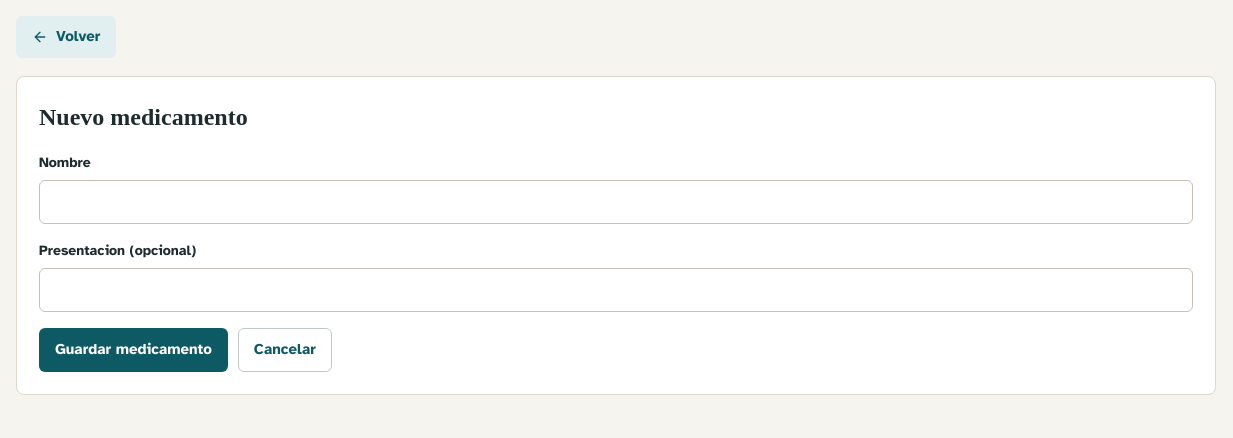
Test case: FormularioMedicamento › muestra el conflicto de nombre duplicado (409) sobre el campo nombre
The width and height of the screenshot is (1233, 438).
Type "Losartan" into the field labelled "Nombre" at (616, 202), box [39,180,1193,224]
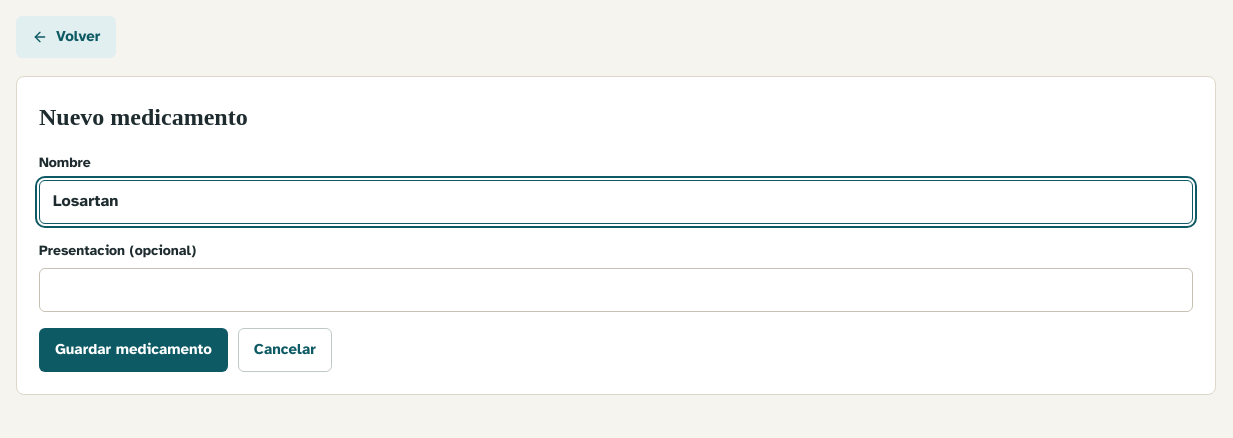
Click the button "Guardar medicamento" at (133, 350), box [39,328,228,372]
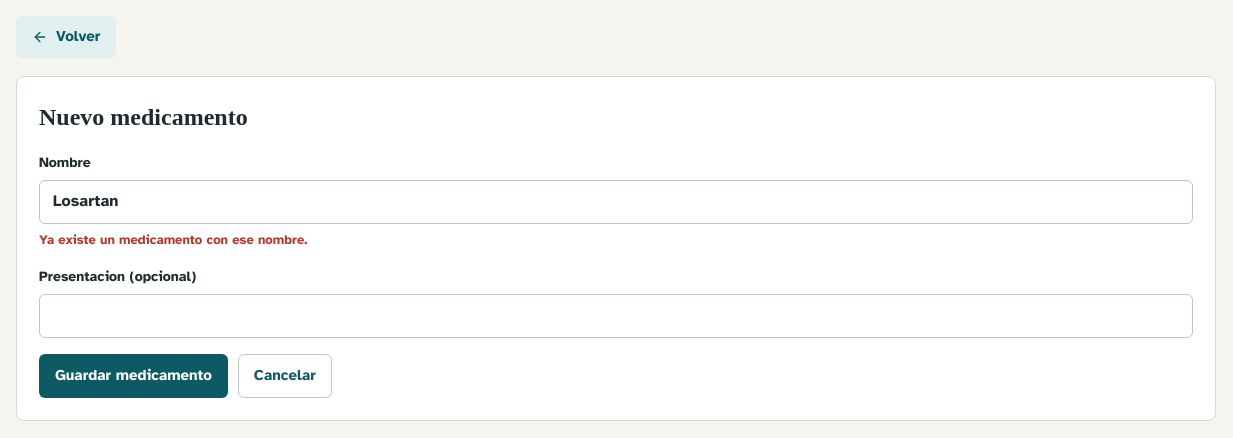
expect the message shows "Ya existe un medicamento": met, box [39,232,307,248]
